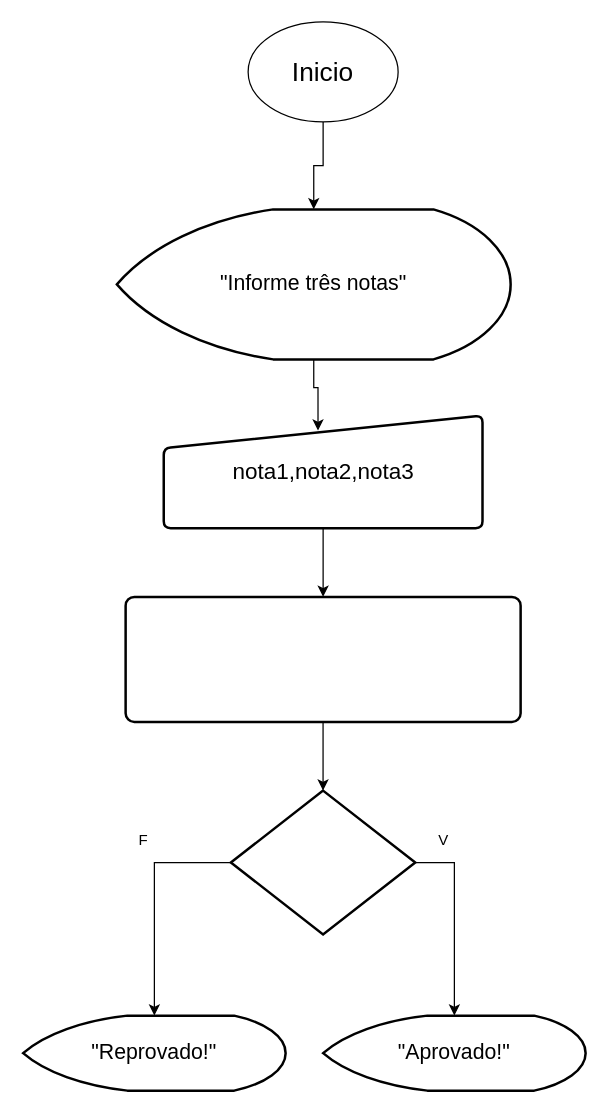
The diagram is 608 pixels wide and 1114 high, and some of its shapes have lost their labels. The shapes that lost their labels are listed below. From the top down, each one's centre as x and y in pixels, then its label:
At pixel 322 658: "média <- (nota1 + nota2 + nota3) / 3".
At pixel 322 862: "SE media >= 7,0".
